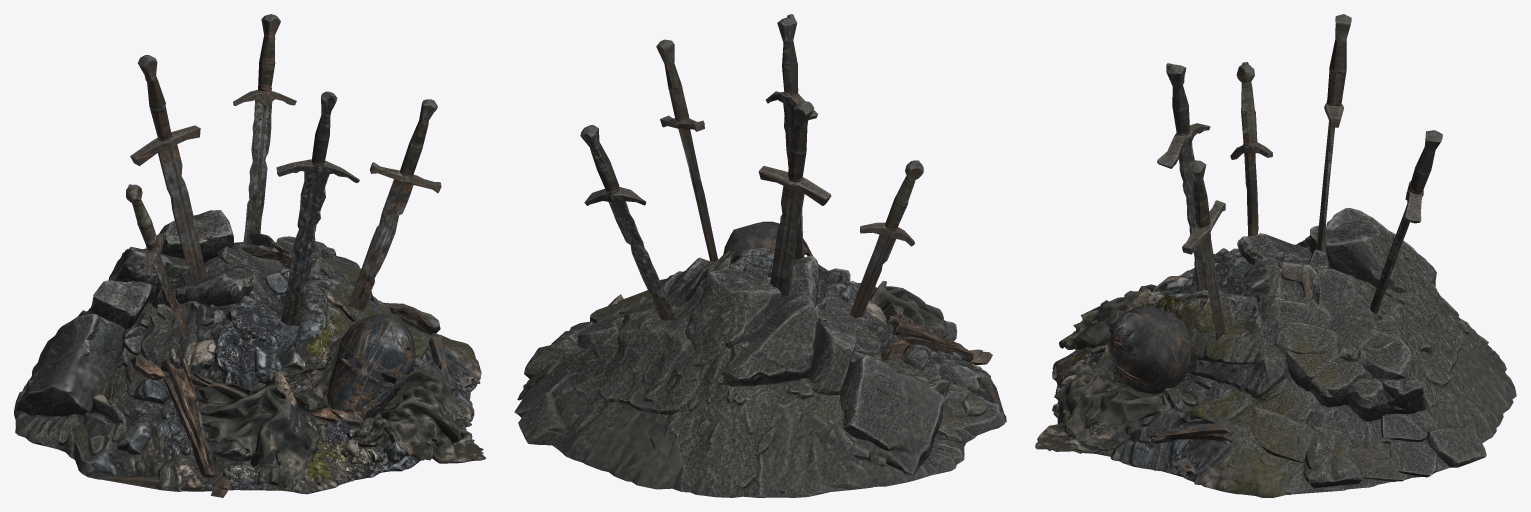
File: sword_graves.glb
The picture shows the model from 3 angles, left to right: view 1: azimuth 30°, elevation 25°; view 2: azimuth 150°, elevation 25°; view 3: azimuth 270°, elevation 25°; orthographic projection.
Parts seen in each view (by area): view 1: Mesh_0; view 2: Mesh_0; view 3: Mesh_0.
Boxes of the visible parts, left/top/right/bottom form: Mesh_0: left=14, top=14, right=485, bottom=497; Mesh_0: left=514, top=14, right=1006, bottom=497; Mesh_0: left=1035, top=14, right=1516, bottom=497.
Size of the model in its own units: 1.9 by 1.44 by 1.84.
1 material, 1 textured.
